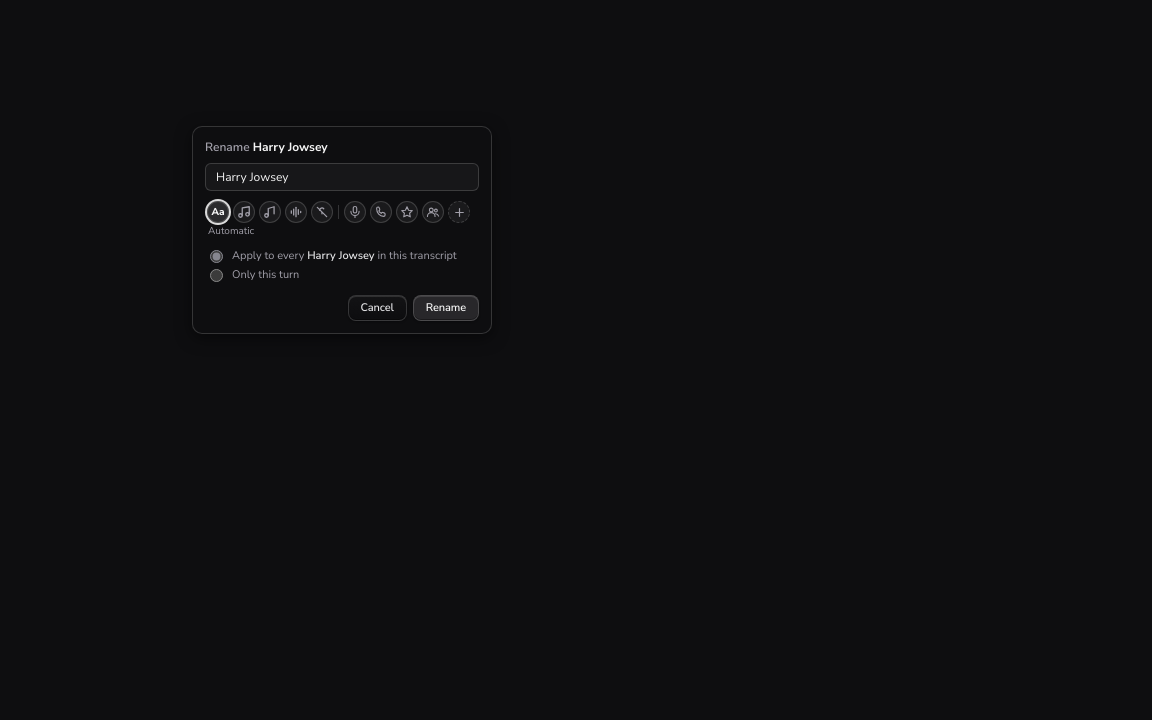
the sheet behind the plus › closes again on a second press of the plus
What coordinates should you click on to do the following:
click the button titled "All icons"
I would click on:
 (459, 212)
Its box is [448,201,470,223].
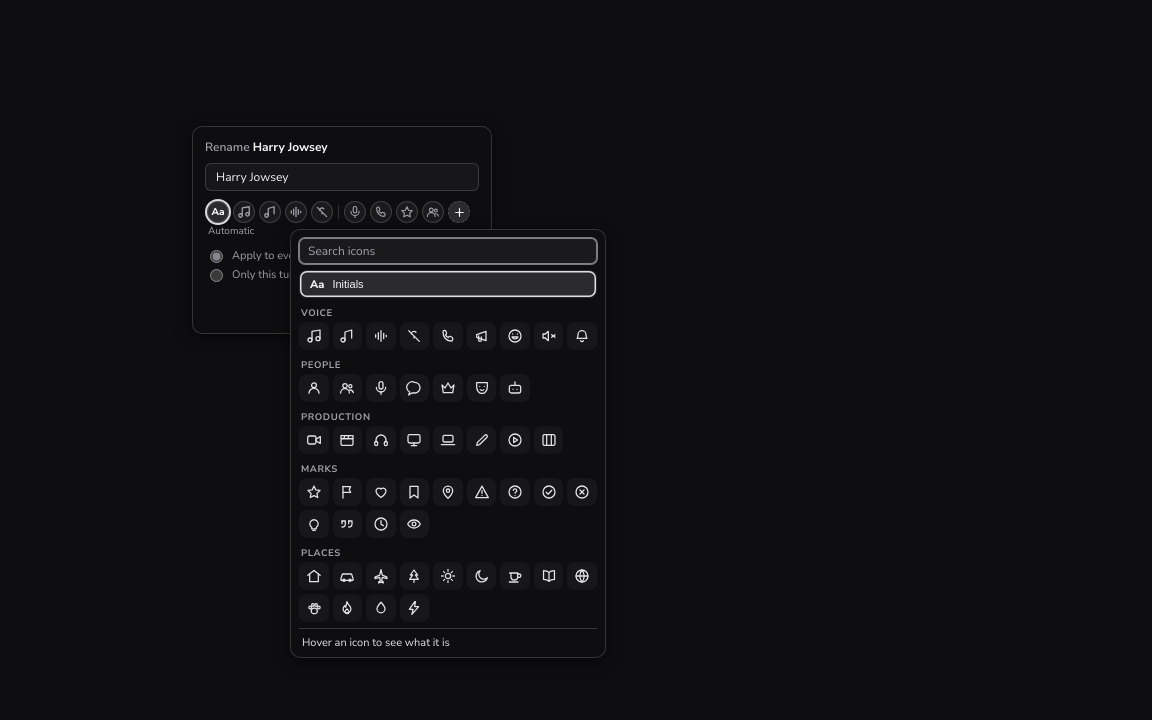
What coordinates should you click on to do the following:
click the button titled "All icons"
I would click on:
 (459, 212)
Its box is [448,201,470,223].
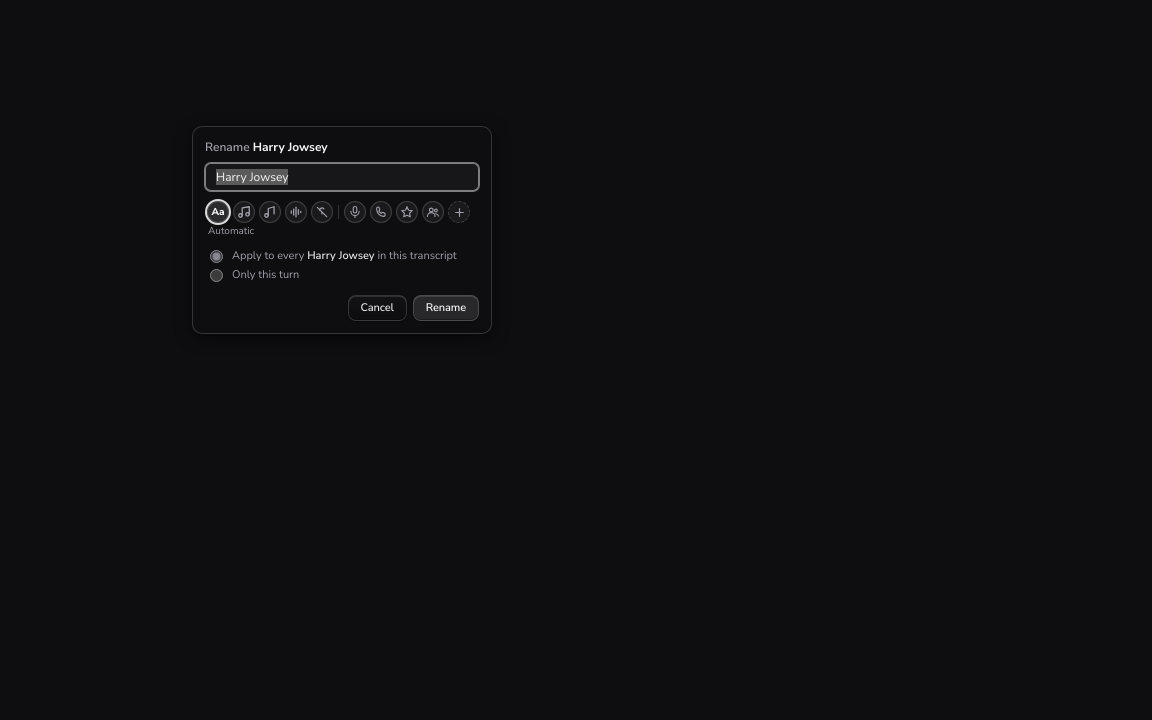
Now the dialog with class "cp-badgesheet" is gone
